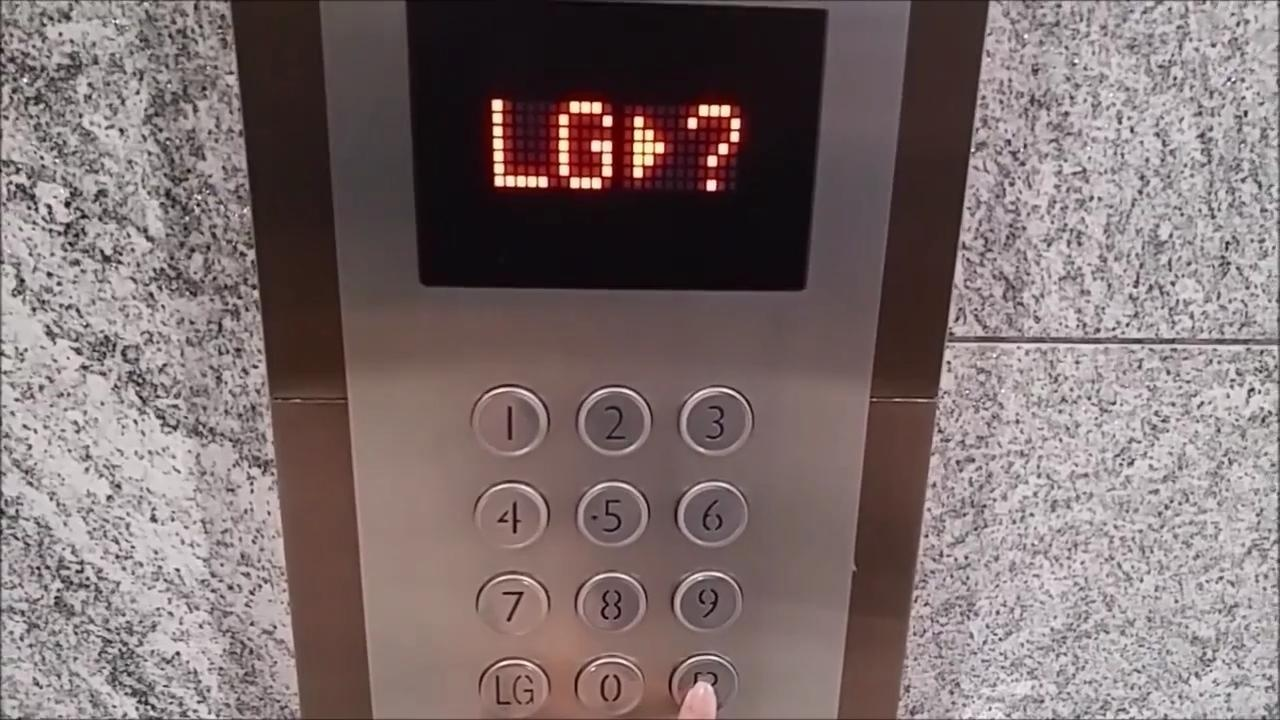0: (570, 651, 649, 720)
1: (469, 380, 550, 457)
2: (575, 384, 654, 457)
3: (674, 382, 754, 455)
4: (473, 478, 550, 551)
5: (575, 476, 654, 547)
6: (671, 476, 753, 551)
7: (475, 568, 553, 634)
8: (575, 567, 650, 635)
9: (672, 569, 745, 636)
LG: (474, 654, 551, 720)
led: (396, 3, 838, 299)
